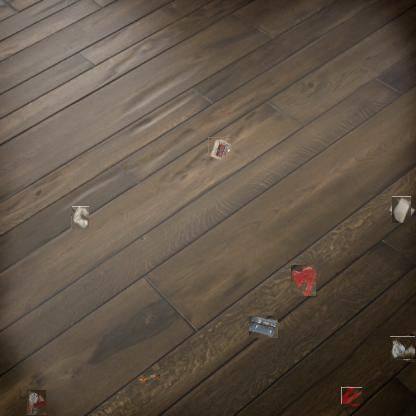dirty: (250, 316, 280, 338), (390, 335, 416, 360), (208, 137, 232, 161), (390, 198, 413, 222), (26, 389, 46, 415), (71, 206, 89, 229), (137, 372, 163, 386)
liquid: (290, 264, 316, 296), (342, 386, 361, 405)
